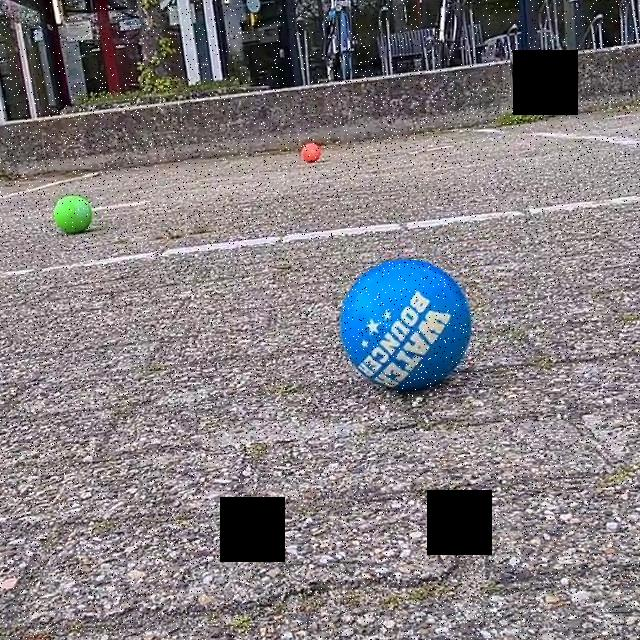ball: (52, 194, 94, 237), (298, 139, 322, 164)
